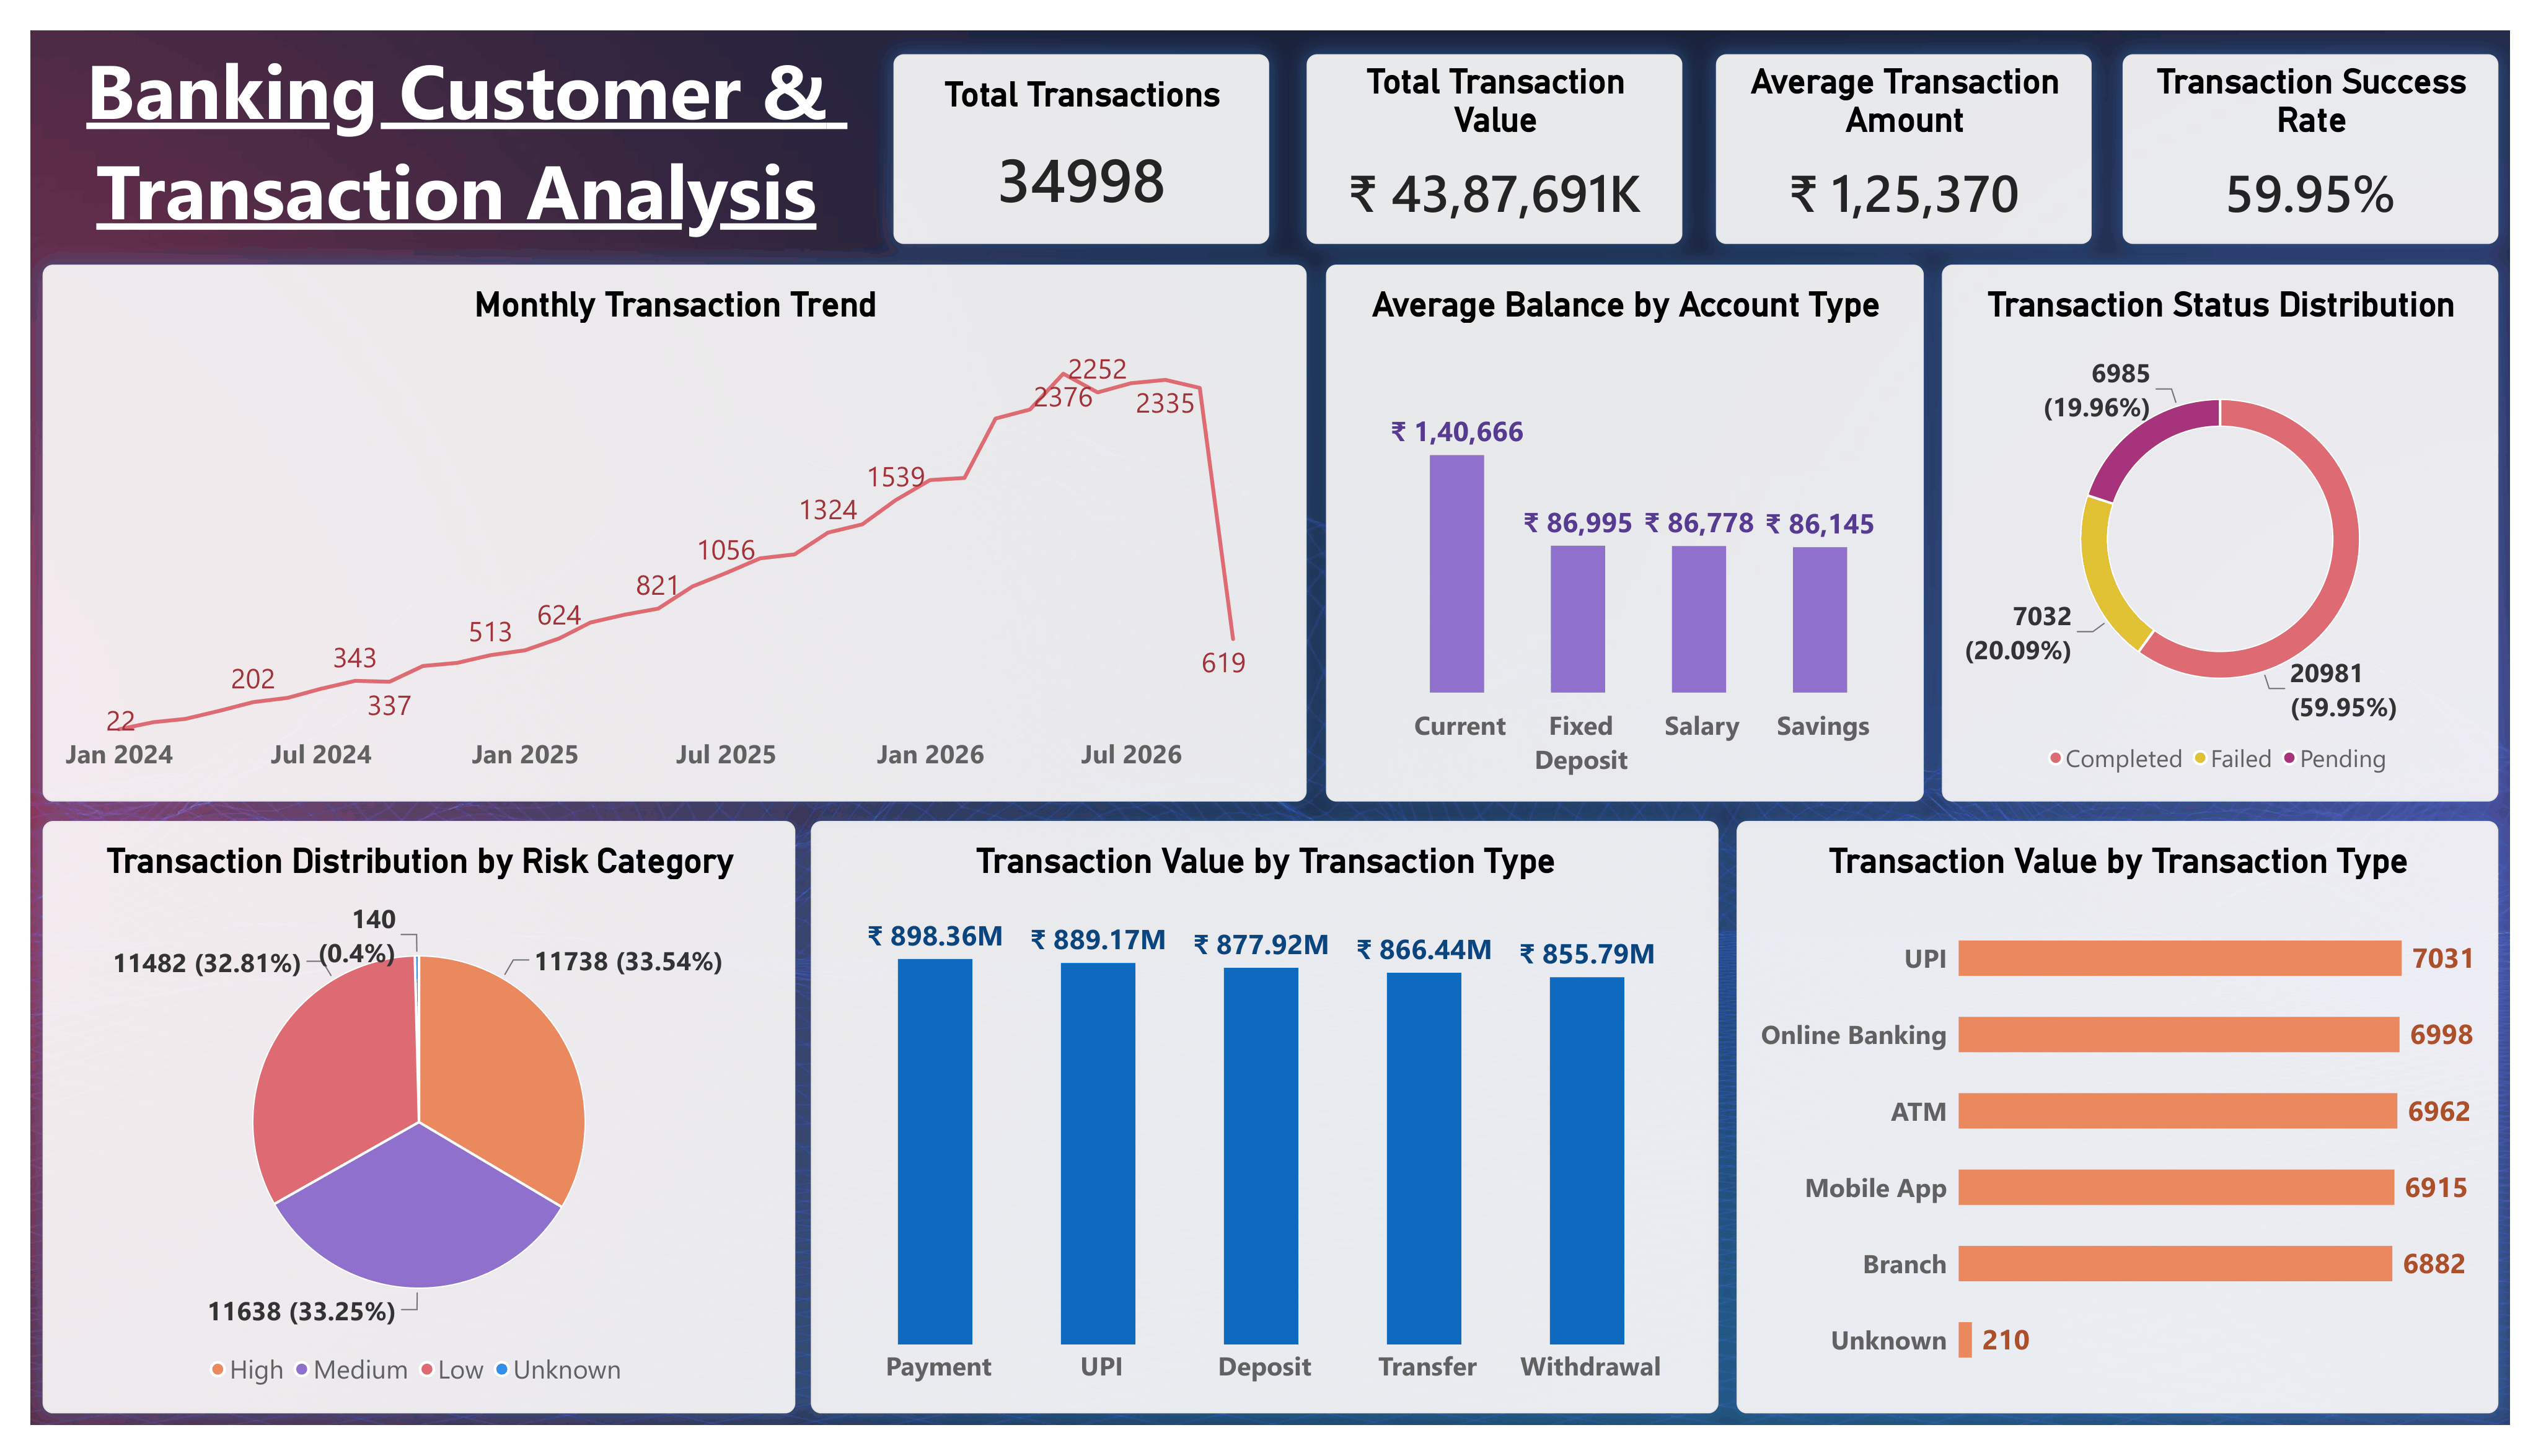

The dashboard page shown, as its layout file describes it:
{"tool":"powerbi","page":{"name":"Page 1","canvas":[1920,1080],"ordinal":0},"visuals":[{"type":"card","title":"Total Transactions","fields":{"Values":["banking_transactions.Total Transactions"]},"box":[667.8,18.1,291.4,146.6],"z":0},{"type":"card","title":"Total Transaction Value","fields":{"Values":["banking_transactions.Total Transaction Value"]},"box":[988.1,18.1,291.4,146.6],"z":1000},{"type":"card","title":"Average Transaction Amount","fields":{"Values":["banking_transactions.Average Transaction Amount"]},"box":[1304.8,18.1,291.4,146.6],"z":2000},{"type":"card","title":"Transaction Success Rate","fields":{"Values":["banking_transactions.Transaction Success Rate"]},"box":[1619.6,18.1,291.4,146.6],"z":3000},{"type":"clusteredColumnChart","title":"Transaction Value by Transaction Type","fields":{"Category":["banking_transactions.Transaction_Type"],"Y":["banking_transactions.Total Transaction Value"]},"box":[604.4,611.7,702.1,459.7],"z":4000},{"type":"donutChart","title":"Transaction Status Distribution","fields":{"Category":["banking_transactions.Transaction_Status"],"Y":["banking_transactions.Total Transactions"]},"box":[1480.3,181,430.7,416.2],"z":5000},{"type":"clusteredBarChart","title":"Transaction Value by Transaction Type","fields":{"Category":["banking_transactions.Transaction_Channel"],"Y":["banking_transactions.Total Transactions"]},"box":[1321.1,611.7,589.9,459.7],"z":6000},{"type":"lineChart","title":"Monthly Transaction Trend","fields":{"Category":["banking_transactions.Transaction_Date.Variation.Date Hierarchy.Year","banking_transactions.Transaction_Date.Variation.Date Hierarchy.Month"],"Y":["banking_transactions.Total Transactions"]},"box":[9,181,979,416.2],"z":7000},{"type":"clusteredColumnChart","title":"Average Balance by Account Type","fields":{"Category":["banking_transactions.Account_Type"],"Y":["banking_transactions.Average Account Balance"]},"box":[1002.6,181,463.3,416.2],"z":8000},{"type":"pieChart","title":"Transaction Distribution by Risk Category","fields":{"Category":["banking_transactions.Risk_Category"],"Y":["banking_transactions.Total Transactions"]},"box":[9,611.7,582.7,459.7],"z":9000},{"type":"textbox","box":[9,0,640.6,181],"z":10000}]}

Visuals, with their boxes in screenshot pixels (x1, y1, x2, y2):
"Total Transactions" card: region(878, 43, 1259, 235)
"Total Transaction Value" card: region(1297, 43, 1676, 235)
"Average Transaction Amount" card: region(1709, 43, 2090, 235)
"Transaction Success Rate" card: region(2120, 43, 2501, 235)
"Transaction Value by Transaction Type" clusteredColumnChart: region(795, 818, 1712, 1418)
"Transaction Status Distribution" donutChart: region(1939, 256, 2501, 799)
"Transaction Value by Transaction Type" clusteredBarChart: region(1731, 818, 2501, 1418)
"Monthly Transaction Trend" lineChart: region(19, 256, 1296, 799)
"Average Balance by Account Type" clusteredColumnChart: region(1315, 256, 1920, 799)
"Transaction Distribution by Risk Category" pieChart: region(19, 818, 779, 1418)
textbox: region(19, 20, 855, 256)
